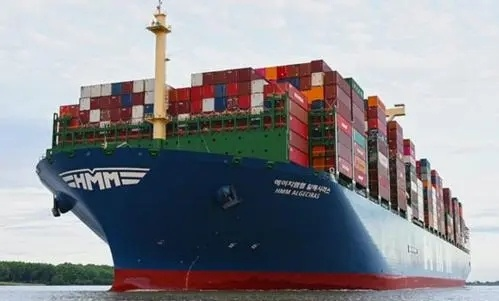Cargoship: (24, 3, 473, 289)
